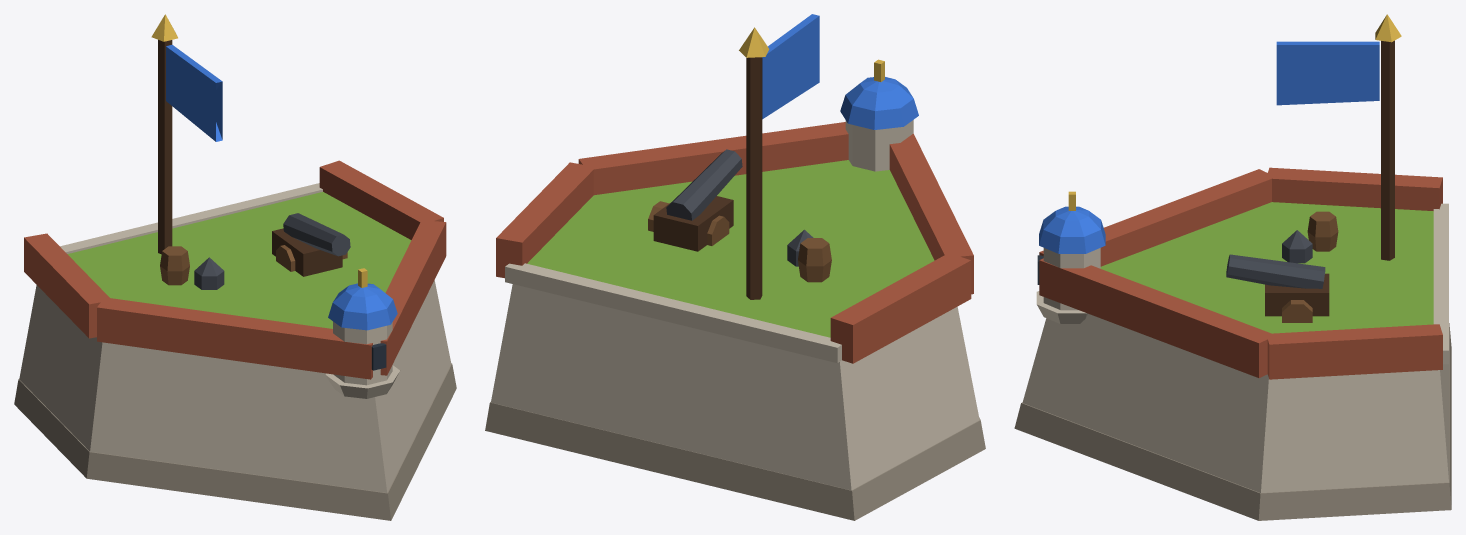
The model's file is wall_tower_2.glb.
3 renders of one model, left to right at view 1: azimuth 30°, elevation 25°; view 2: azimuth 150°, elevation 25°; view 3: azimuth 270°, elevation 25°, orthographic. The views are drawn at different scales.
Parts seen in each view (by area): view 1: wall_tower_2; view 2: wall_tower_2; view 3: wall_tower_2.
Boxes of the visible parts, x1=… form: wall_tower_2: x1=14, y1=14, x2=456, y2=520; wall_tower_2: x1=485, y1=14, x2=985, y2=520; wall_tower_2: x1=1014, y1=14, x2=1451, y2=520.
Bounding box in the file's own units: 0.34 × 0.3372 × 0.34.
